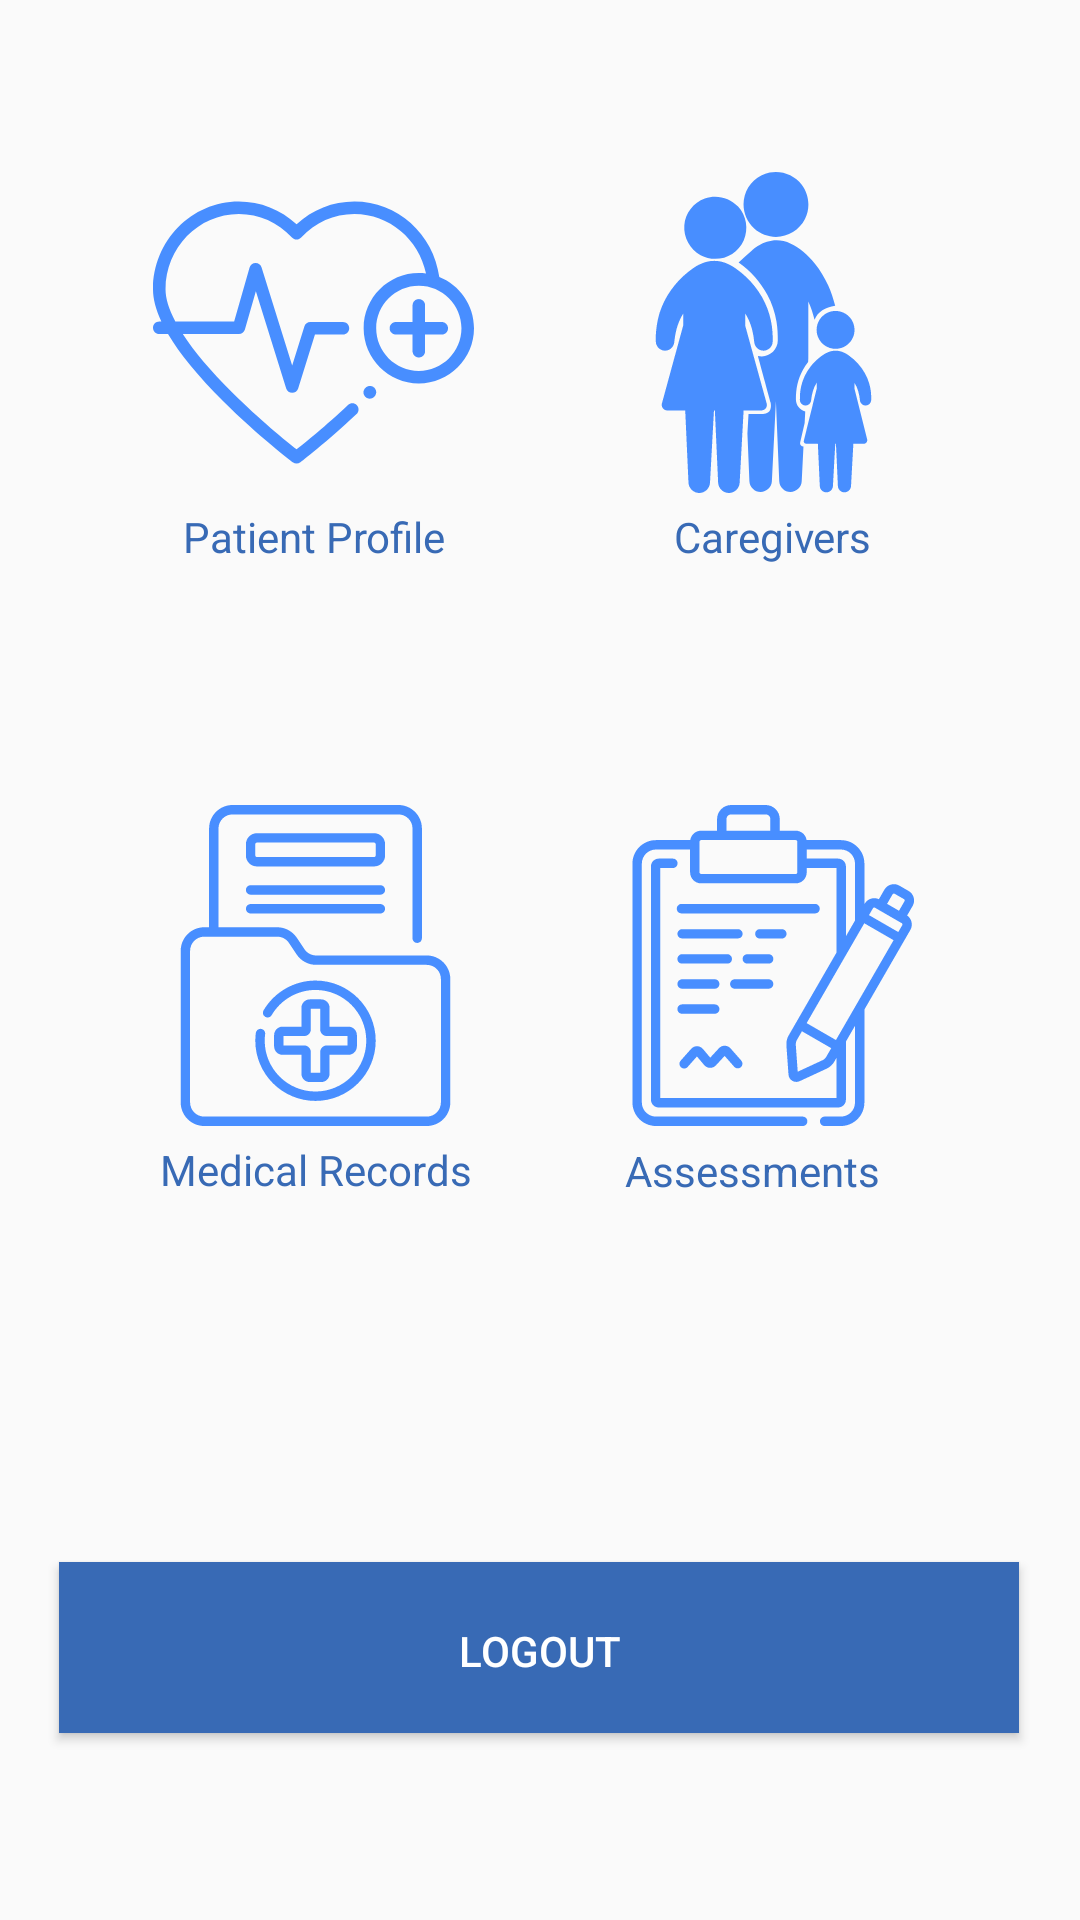

Where icons sit on this 1080 × 1920 app screen, as rect(x1, y1, x2, y2):
clipboard: rect(632, 805, 914, 1126)
heartbeat: rect(153, 201, 474, 464)
